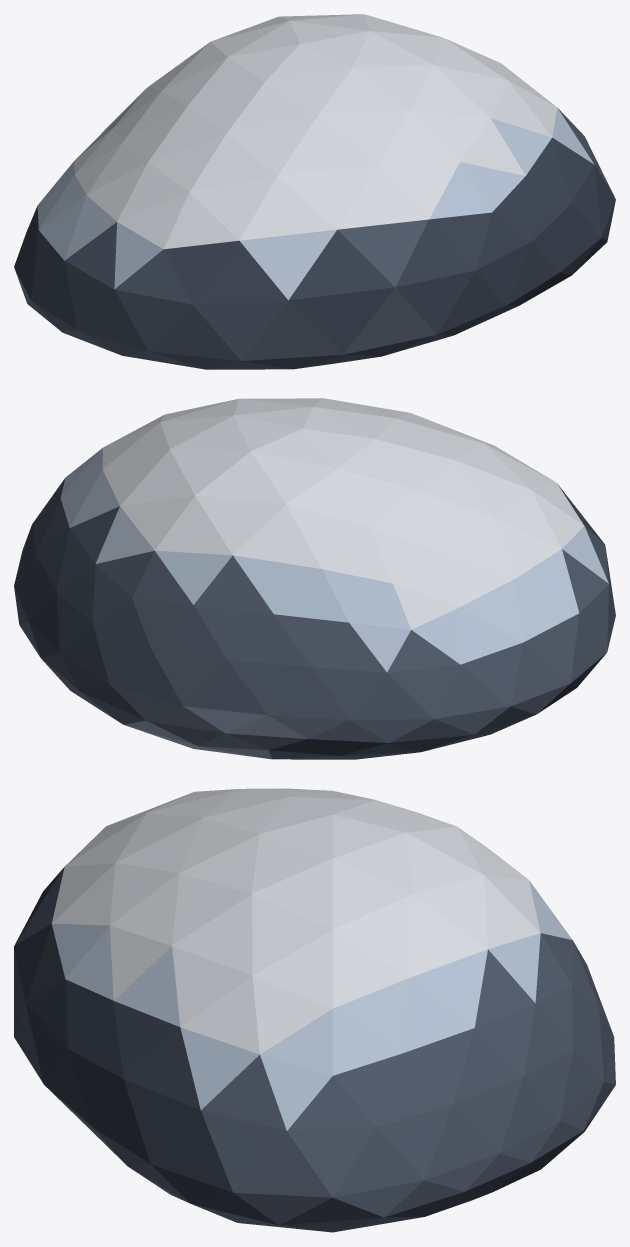
Rendered from Rock_Small.glb.
The picture shows the model from 3 angles, top to bottom: view 1: azimuth 30°, elevation 25°; view 2: azimuth 150°, elevation 25°; view 3: azimuth 270°, elevation 25°; orthographic projection. The views are drawn at different scales.
Visible parts, largest first — view 1: Rock_Small; view 2: Rock_Small; view 3: Rock_Small.
Boxes of the visible parts, <box> form: Rock_Small: <box>14,14,615,369</box>; Rock_Small: <box>14,398,615,759</box>; Rock_Small: <box>14,788,615,1232</box>.
Size of the model in its own units: 2.48 by 1.18 by 2.01.
